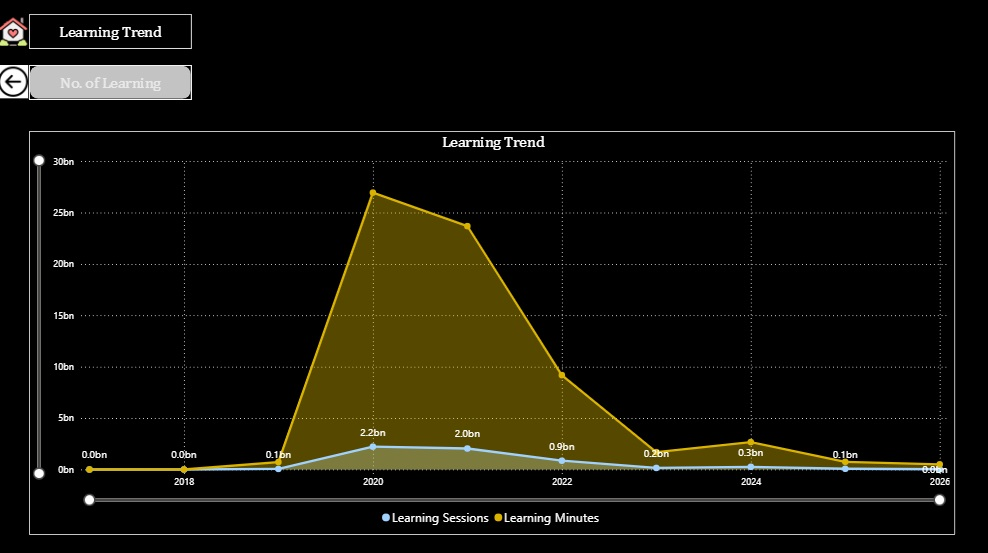

The dashboard page shown, as its layout file describes it:
{"tool":"powerbi","page":{"name":"Usage Details","canvas":[1280,720],"ordinal":4},"visuals":[{"type":"lineChart","title":"Learning Trend","fields":{"Category":["learning_trend.Year"],"Y":["Sum(learning_trend.Learning Sessions)","Sum(learning_trend.Learning Minutes)"]},"box":[40.2,171.2,1195.2,520.9],"z":1000},{"type":"shape","box":[40.2,20.8,209.9,44.7],"z":2000},{"type":"shape","box":[40.2,86.3,209.9,44.7],"z":3000},{"type":"shape","box":[40.2,86.3,209.9,44.7],"z":5000},{"type":"image","box":[0,18.1,38.7,50.3],"z":7000},{"type":"image","box":[0,86.5,38.7,42.6],"z":8000}]}

Visuals, with their boxes on the page's 1280x720 design canvas (x1, y1, x2, y2). These are canvas units, not pixel positions in the 988x553 screenshot, which may show the page scaled, cropped or inside an application window:
"Learning Trend" lineChart: BBox(40, 171, 1235, 692)
shape: BBox(40, 21, 250, 66)
shape: BBox(40, 86, 250, 131)
shape: BBox(40, 86, 250, 131)
image: BBox(0, 18, 39, 68)
image: BBox(0, 86, 39, 129)
